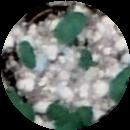Basil: (54, 10, 86, 46), (48, 103, 75, 130), (18, 41, 38, 74), (69, 106, 95, 130)
